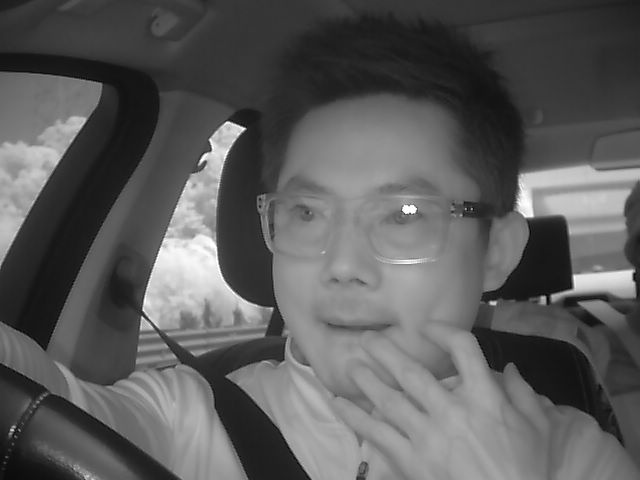hand: (327, 323, 515, 474)
